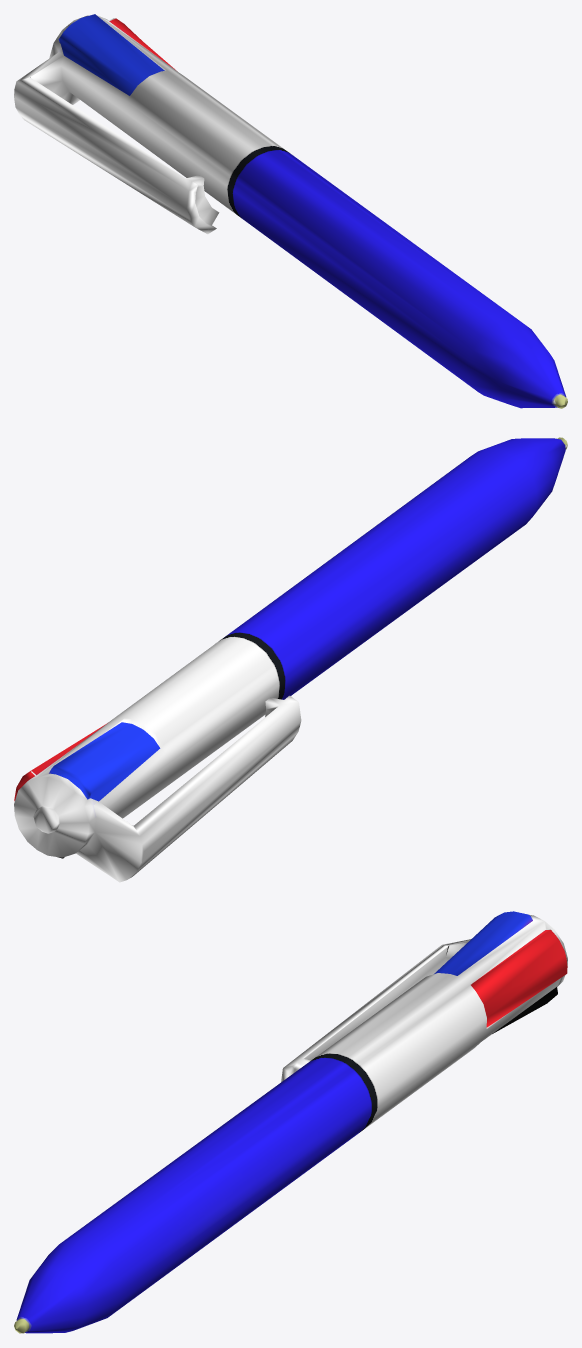
The model's file is BicPen.fbx.
3 renders of one model, top to bottom at view 1: azimuth 30°, elevation 25°; view 2: azimuth 150°, elevation 25°; view 3: azimuth 330°, elevation 25°, orthographic. The views are drawn at different scales.
Parts seen in each view (by area): view 1: Cylinder; view 2: Cylinder; view 3: Cylinder.
Boxes of the visible parts, x1=… form: Cylinder: x1=14, y1=14, x2=567, y2=408; Cylinder: x1=14, y1=437, x2=567, y2=882; Cylinder: x1=14, y1=911, x2=567, y2=1333.
Bounding box in the file's own units: 37.01 × 28.22 × 261.
